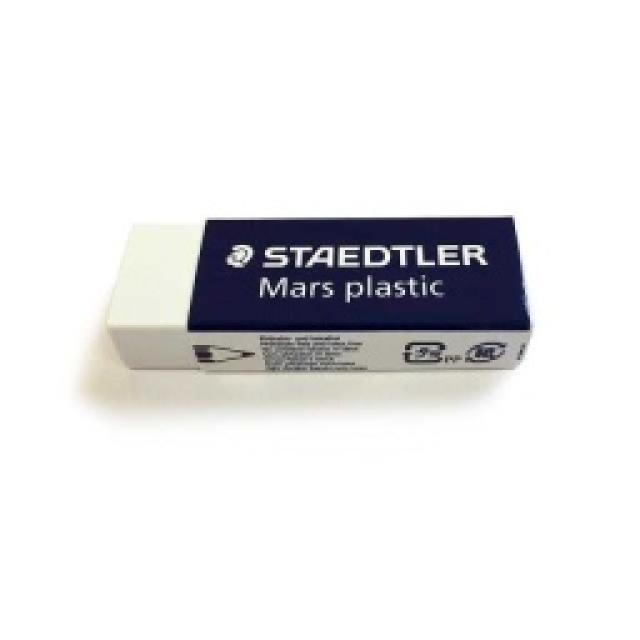Silgi: (103, 214, 535, 374)
